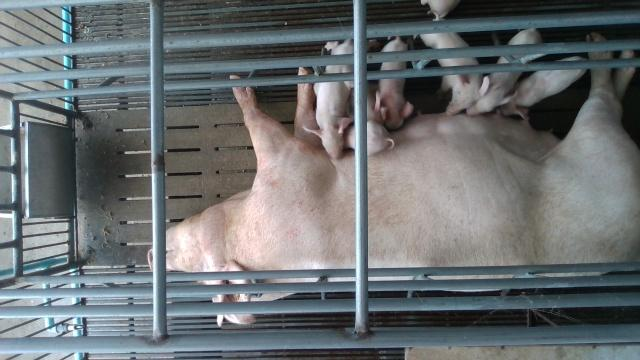piglet: (302, 41, 359, 159), (466, 28, 537, 115), (495, 56, 590, 120), (420, 23, 480, 115), (382, 34, 414, 131)
sow-sleep-lactate: (149, 32, 640, 327)
